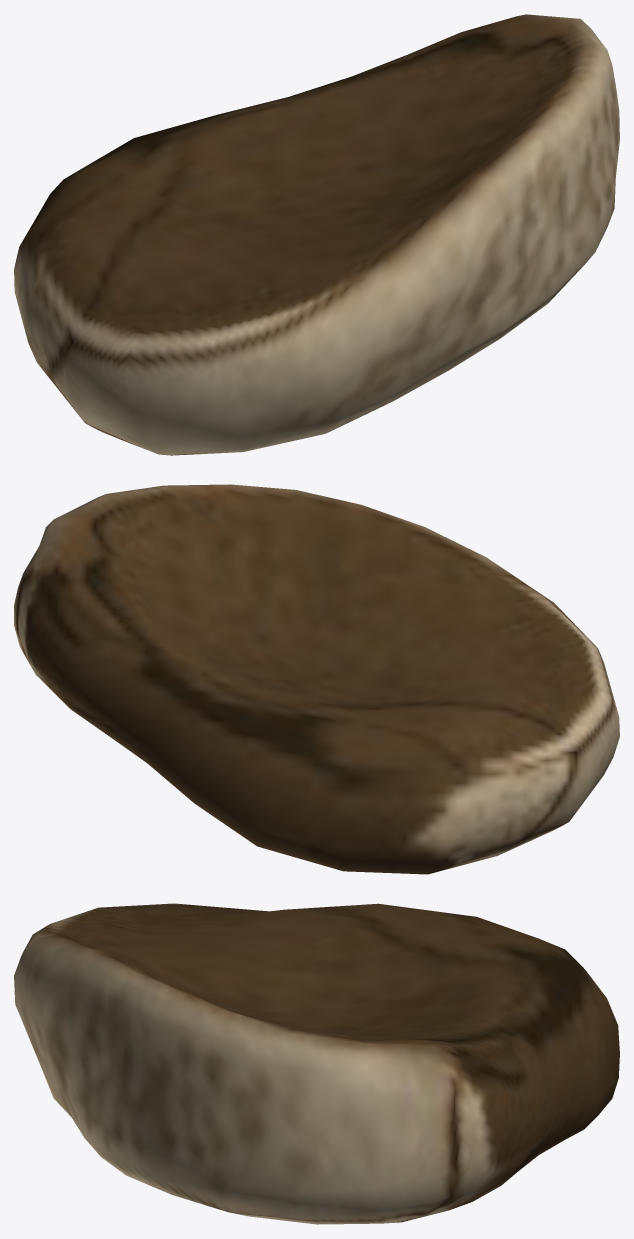
File: Central_Tarsal.glb
3 views of the same model, one above another, from view 1: azimuth 30°, elevation 25°; view 2: azimuth 150°, elevation 25°; view 3: azimuth 270°, elevation 25° (orthographic). The views are drawn at different scales.
Parts seen in each view (by area): view 1: L_Bck_Central_Tarsal; view 2: L_Bck_Central_Tarsal; view 3: L_Bck_Central_Tarsal.
Boxes of the visible parts, <box> form: L_Bck_Central_Tarsal: <box>14,14,619,455</box>; L_Bck_Central_Tarsal: <box>14,484,619,874</box>; L_Bck_Central_Tarsal: <box>14,903,619,1224</box>.
Size of the model in its own units: 0.0432 by 0.0194 by 0.0344.
1 material, 1 textured.
